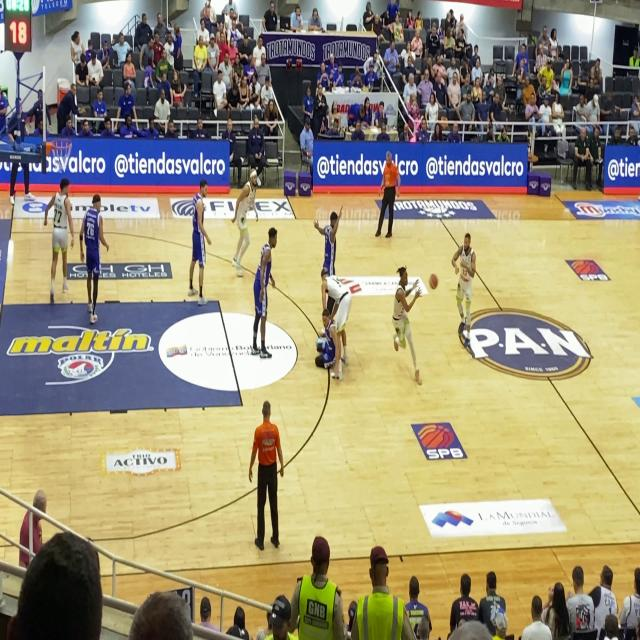Ball: (426, 269, 440, 296)
referee: (239, 379, 291, 566), (368, 138, 404, 246)
team1: (36, 171, 76, 323), (384, 259, 425, 391), (317, 257, 355, 382), (448, 221, 478, 352), (232, 172, 263, 277)
team2: (245, 216, 282, 362), (78, 186, 110, 324), (183, 170, 214, 306), (308, 202, 344, 278)
ubasket: (51, 136, 74, 172)
